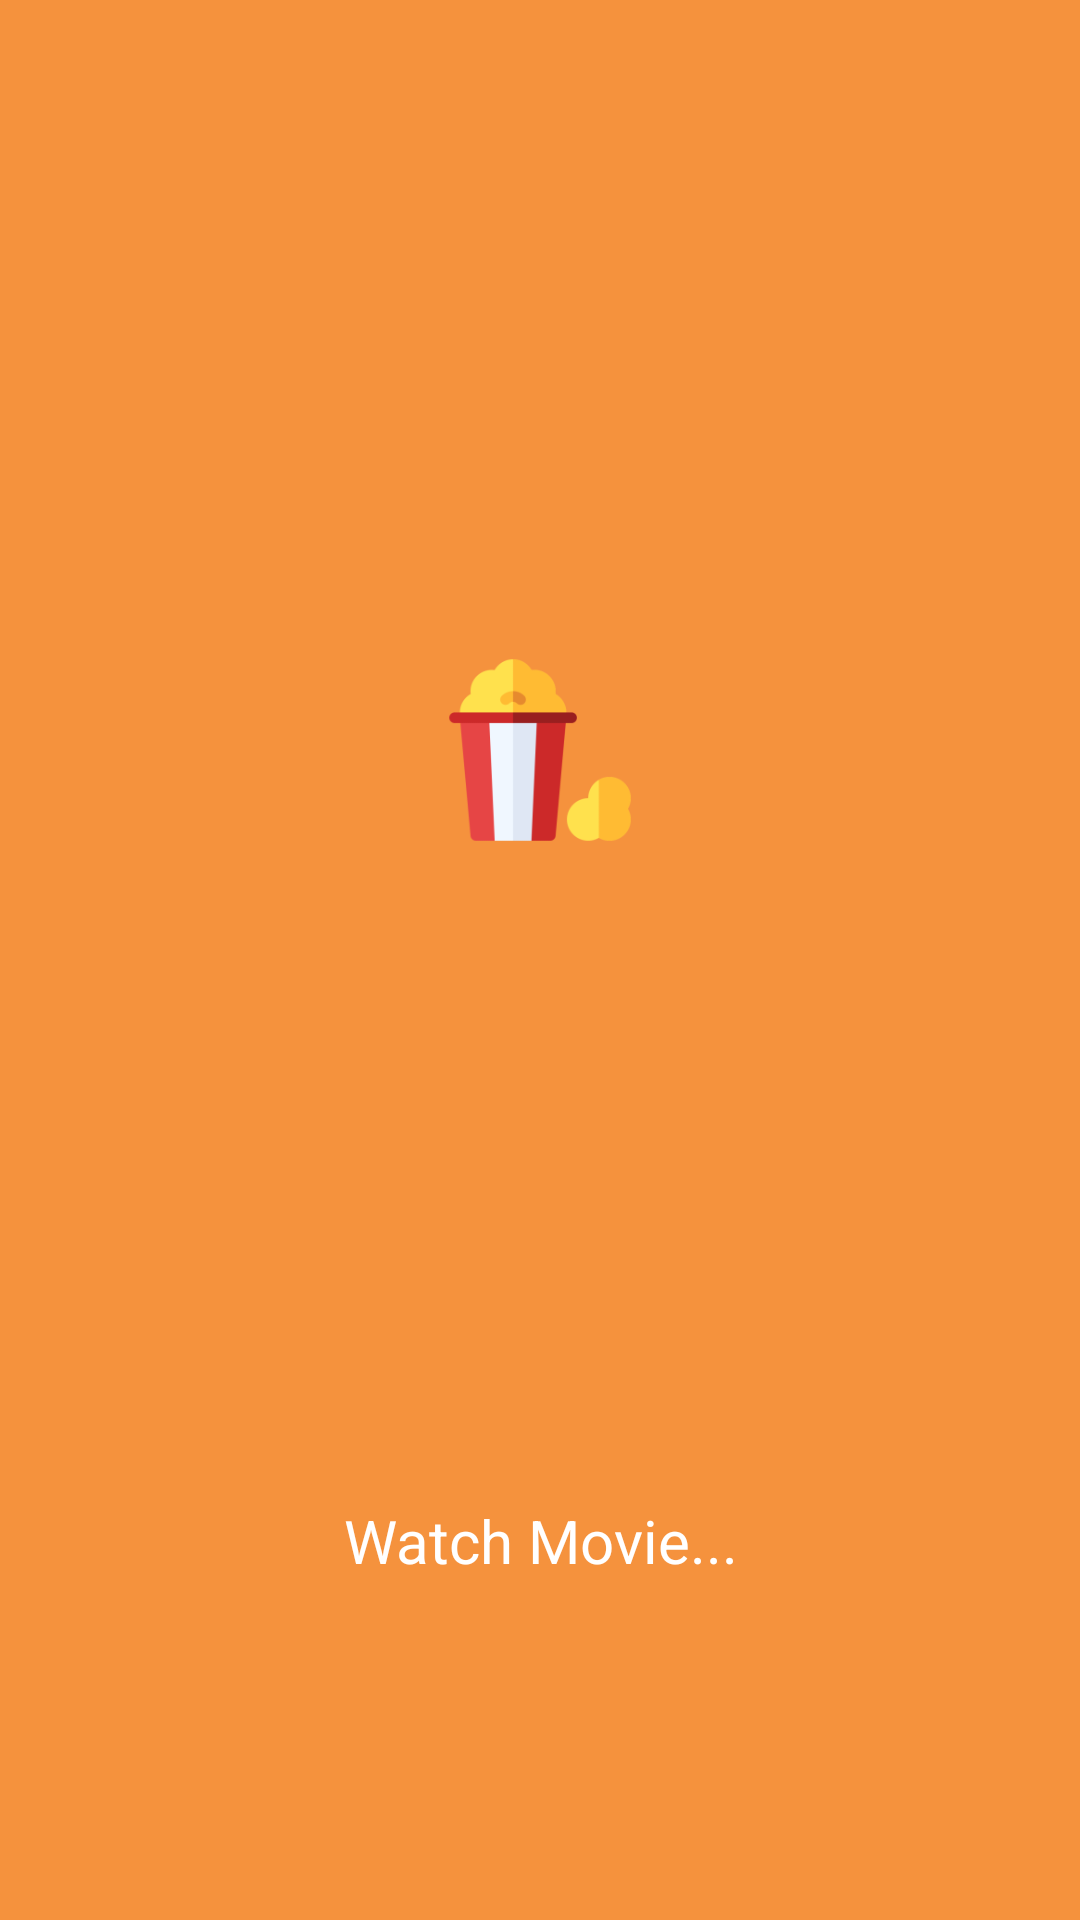

Locate icon controls on the screen. Image size 1080px×1920px, boxes as region(x1, y1, x2, y2).
popcorn: region(449, 659, 631, 841)
